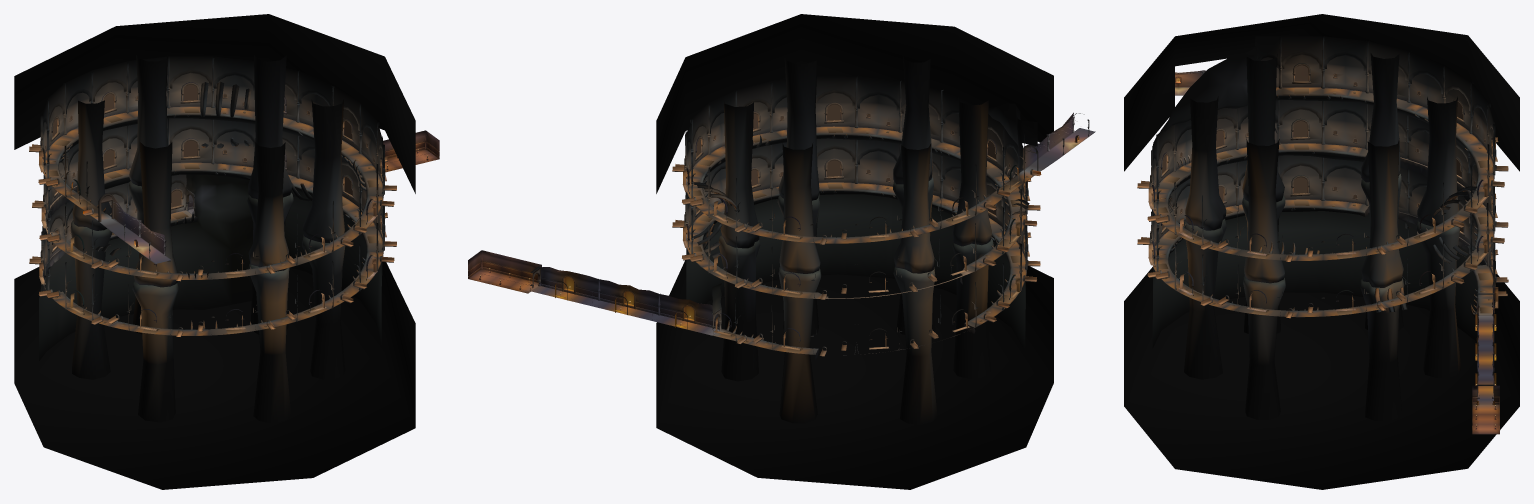
File: 09Spiral.gltf
3 renders of one model, left to right at view 1: azimuth 30°, elevation 25°; view 2: azimuth 150°, elevation 25°; view 3: azimuth 270°, elevation 25°, orthographic.
Parts seen in each view (by area): view 1: stg040_o34_Mesh_0000, stg040_o26_Mesh_0001, stg040_o53_Mesh_0005, stg040_o53_Mesh_0007, stg040_o34_Mesh_0005, stg040_o26_Mesh_0011, stg040_a34_Mesh_0000, stg040_o26_Mesh_0009, stg040_k27_Mesh_0000, stg040_o26_Mesh_0010, stg040_o27_Mesh_0008, stg040_p30_Mesh_0001 (+2 smaller); view 2: stg040_o34_Mesh_0000, stg040_o26_Mesh_0001, stg040_o53_Mesh_0005, stg040_o53_Mesh_0007, stg040_o34_Mesh_0005, stg040_o26_Mesh_0011, stg040_o26_Mesh_0009, stg040_o27_Mesh_0008, stg040_k27_Mesh_0000, stg040_o26_Mesh_0010, stg040_o26_Mesh_0003, stg040_o30_Mesh_0015 (+4 smaller); view 3: stg040_o34_Mesh_0000, stg040_o26_Mesh_0001, stg040_o53_Mesh_0005, stg040_o53_Mesh_0007, stg040_o34_Mesh_0005, stg040_o26_Mesh_0011, stg040_o26_Mesh_0010, stg040_o26_Mesh_0009, stg040_a34_Mesh_0000, stg040_k27_Mesh_0000, stg040_o27_Mesh_0008, stg040_o26_Mesh_0003 (+7 smaller).
Part boxes in pixels (box(x1,y1,x2,y2)): stg040_o34_Mesh_0000: box(14, 14, 415, 489); stg040_o26_Mesh_0001: box(40, 54, 438, 423); stg040_o53_Mesh_0005: box(39, 115, 439, 360); stg040_o53_Mesh_0007: box(40, 69, 439, 335); stg040_o34_Mesh_0005: box(42, 73, 383, 262); stg040_o26_Mesh_0011: box(42, 56, 383, 234); stg040_a34_Mesh_0000: box(39, 190, 312, 360); stg040_o26_Mesh_0009: box(29, 93, 396, 337); stg040_k27_Mesh_0000: box(42, 100, 382, 333); stg040_o26_Mesh_0010: box(43, 102, 382, 271); stg040_o27_Mesh_0008: box(39, 82, 438, 330); stg040_p30_Mesh_0001: box(45, 84, 382, 260); stg040_o34_Mesh_0000: box(656, 14, 1053, 489); stg040_o26_Mesh_0001: box(468, 56, 1029, 424); stg040_o53_Mesh_0005: box(468, 103, 1073, 351); stg040_o53_Mesh_0007: box(468, 89, 1095, 353); stg040_o34_Mesh_0005: box(685, 93, 1027, 277); stg040_o26_Mesh_0011: box(686, 76, 1026, 219); stg040_o26_Mesh_0009: box(672, 113, 1041, 356); stg040_o27_Mesh_0008: box(468, 102, 1028, 350); stg040_k27_Mesh_0000: box(686, 120, 1025, 353); stg040_o26_Mesh_0010: box(688, 122, 1025, 257); stg040_o26_Mesh_0003: box(533, 120, 1030, 350); stg040_o30_Mesh_0015: box(468, 262, 718, 326); stg040_o34_Mesh_0000: box(1124, 14, 1519, 489); stg040_o26_Mesh_0001: box(1151, 36, 1495, 427); stg040_o53_Mesh_0005: box(1152, 45, 1499, 396); stg040_o53_Mesh_0007: box(1150, 51, 1499, 425); stg040_o34_Mesh_0005: box(1152, 55, 1495, 307); stg040_o26_Mesh_0011: box(1152, 36, 1494, 243); stg040_o26_Mesh_0010: box(1154, 83, 1493, 276); stg040_o26_Mesh_0009: box(1137, 73, 1508, 318); stg040_a34_Mesh_0000: box(1161, 223, 1480, 341); stg040_k27_Mesh_0000: box(1151, 81, 1495, 315); stg040_o27_Mesh_0008: box(1148, 63, 1499, 431); stg040_o26_Mesh_0003: box(1148, 137, 1498, 404).
Size of the model in its own units: 235 by 147 by 170.
